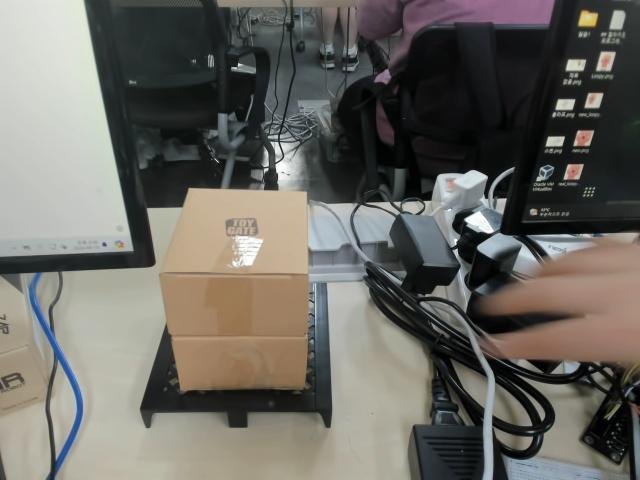box: (139, 187, 334, 431)
